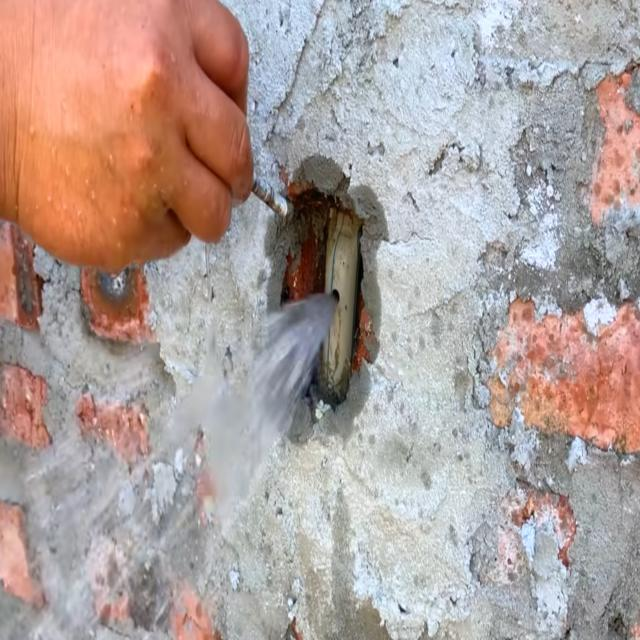leak: (0, 296, 343, 640)
